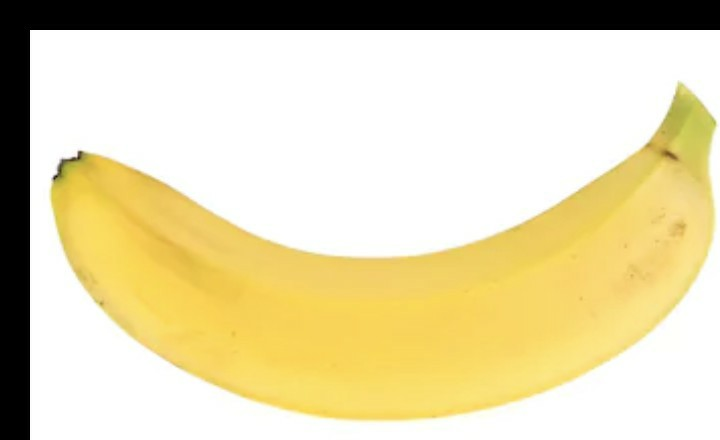fresh_banana: (50, 94, 720, 422)
